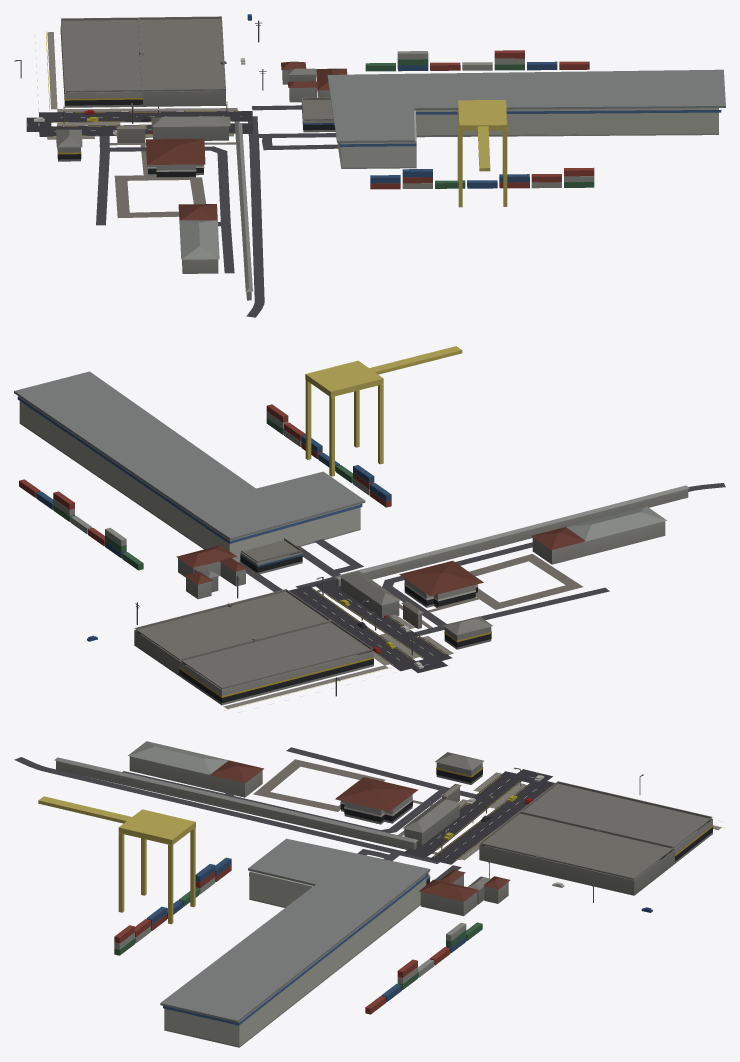
3 renders of one model, top to bottom at view 1: azimuth 30°, elevation 25°; view 2: azimuth 150°, elevation 25°; view 3: azimuth 270°, elevation 25°, orthographic. The views are drawn at different scales.
Parts seen in each view (by area): view 1: Cebu Port Pier 1-col, Buildings__r-19c-2-col, Roads_Minor__r-19c-2, Roads_Major__r-19c-2, Footways__r-19c-2, Sidewalks__r-19c-2-col, Windows__r-19c-2, Police Station 3-col, Props_Solid__r-19c-2-col, LGU-DILG-col; view 2: Cebu Port Pier 1-col, Buildings__r-19c-2-col, Roads_Major__r-19c-2, Roads_Minor__r-19c-2, Windows__r-19c-2, Footways__r-19c-2, Sidewalks__r-19c-2-col, Police Station 3-col, Props_Solid__r-19c-2-col; view 3: Cebu Port Pier 1-col, Buildings__r-19c-2-col, Roads_Minor__r-19c-2, Roads_Major__r-19c-2, Footways__r-19c-2, Police Station 3-col, Windows__r-19c-2, Sidewalks__r-19c-2-col, Props_Solid__r-19c-2-col.
Part boxes in pixels (box(x1,y1,x2,y2)): Cebu Port Pier 1-col: box(327, 50, 725, 207); Buildings__r-19c-2-col: box(61, 16, 347, 300); Roads_Minor__r-19c-2: box(96, 105, 577, 317); Roads_Major__r-19c-2: box(26, 111, 253, 136); Footways__r-19c-2: box(62, 110, 246, 298); Sidewalks__r-19c-2-col: box(47, 32, 237, 139); Windows__r-19c-2: box(60, 25, 334, 176); Police Station 3-col: box(56, 129, 82, 161); Props_Solid__r-19c-2-col: box(20, 14, 263, 134); LGU-DILG-col: box(116, 125, 146, 142); Cebu Port Pier 1-col: box(14, 346, 462, 570); Buildings__r-19c-2-col: box(134, 485, 689, 705); Roads_Major__r-19c-2: box(289, 579, 452, 672); Roads_Minor__r-19c-2: box(79, 462, 725, 635); Windows__r-19c-2: box(137, 554, 478, 703); Footways__r-19c-2: box(317, 496, 685, 658); Sidewalks__r-19c-2-col: box(223, 614, 453, 708); Police Station 3-col: box(443, 616, 492, 649); Props_Solid__r-19c-2-col: box(87, 576, 423, 696); Cebu Port Pier 1-col: box(38, 796, 482, 1047); Buildings__r-19c-2-col: box(54, 741, 712, 916); Roads_Minor__r-19c-2: box(14, 747, 475, 1003); Roads_Major__r-19c-2: box(403, 769, 554, 864); Footways__r-19c-2: box(111, 759, 460, 859); Police Station 3-col: box(435, 752, 484, 784); Windows__r-19c-2: box(340, 799, 713, 884); Sidewalks__r-19c-2-col: box(459, 772, 721, 860); Props_Solid__r-19c-2-col: box(441, 768, 652, 912).
Size of the model in its own units: 280 by 37 by 279.
